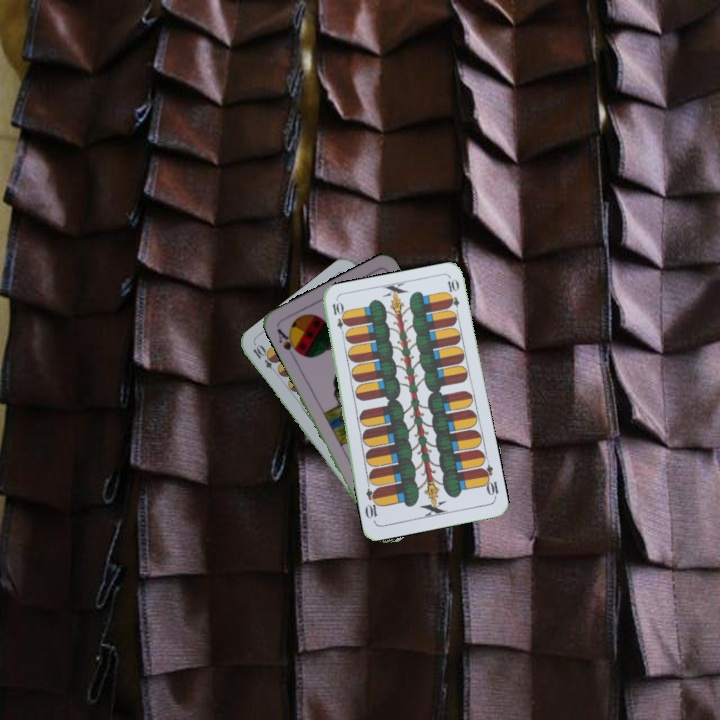E10: (249, 341, 281, 377), (477, 461, 501, 501), (328, 298, 348, 339)
SA: (273, 324, 303, 361)
